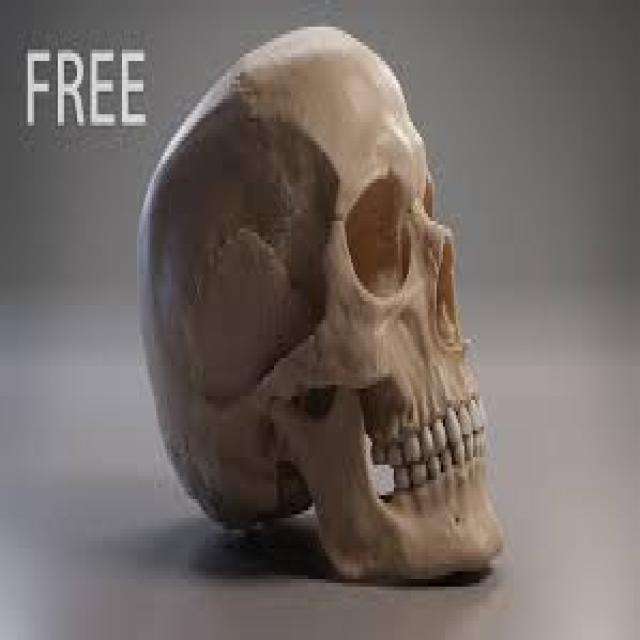skull: (107, 12, 526, 616)
